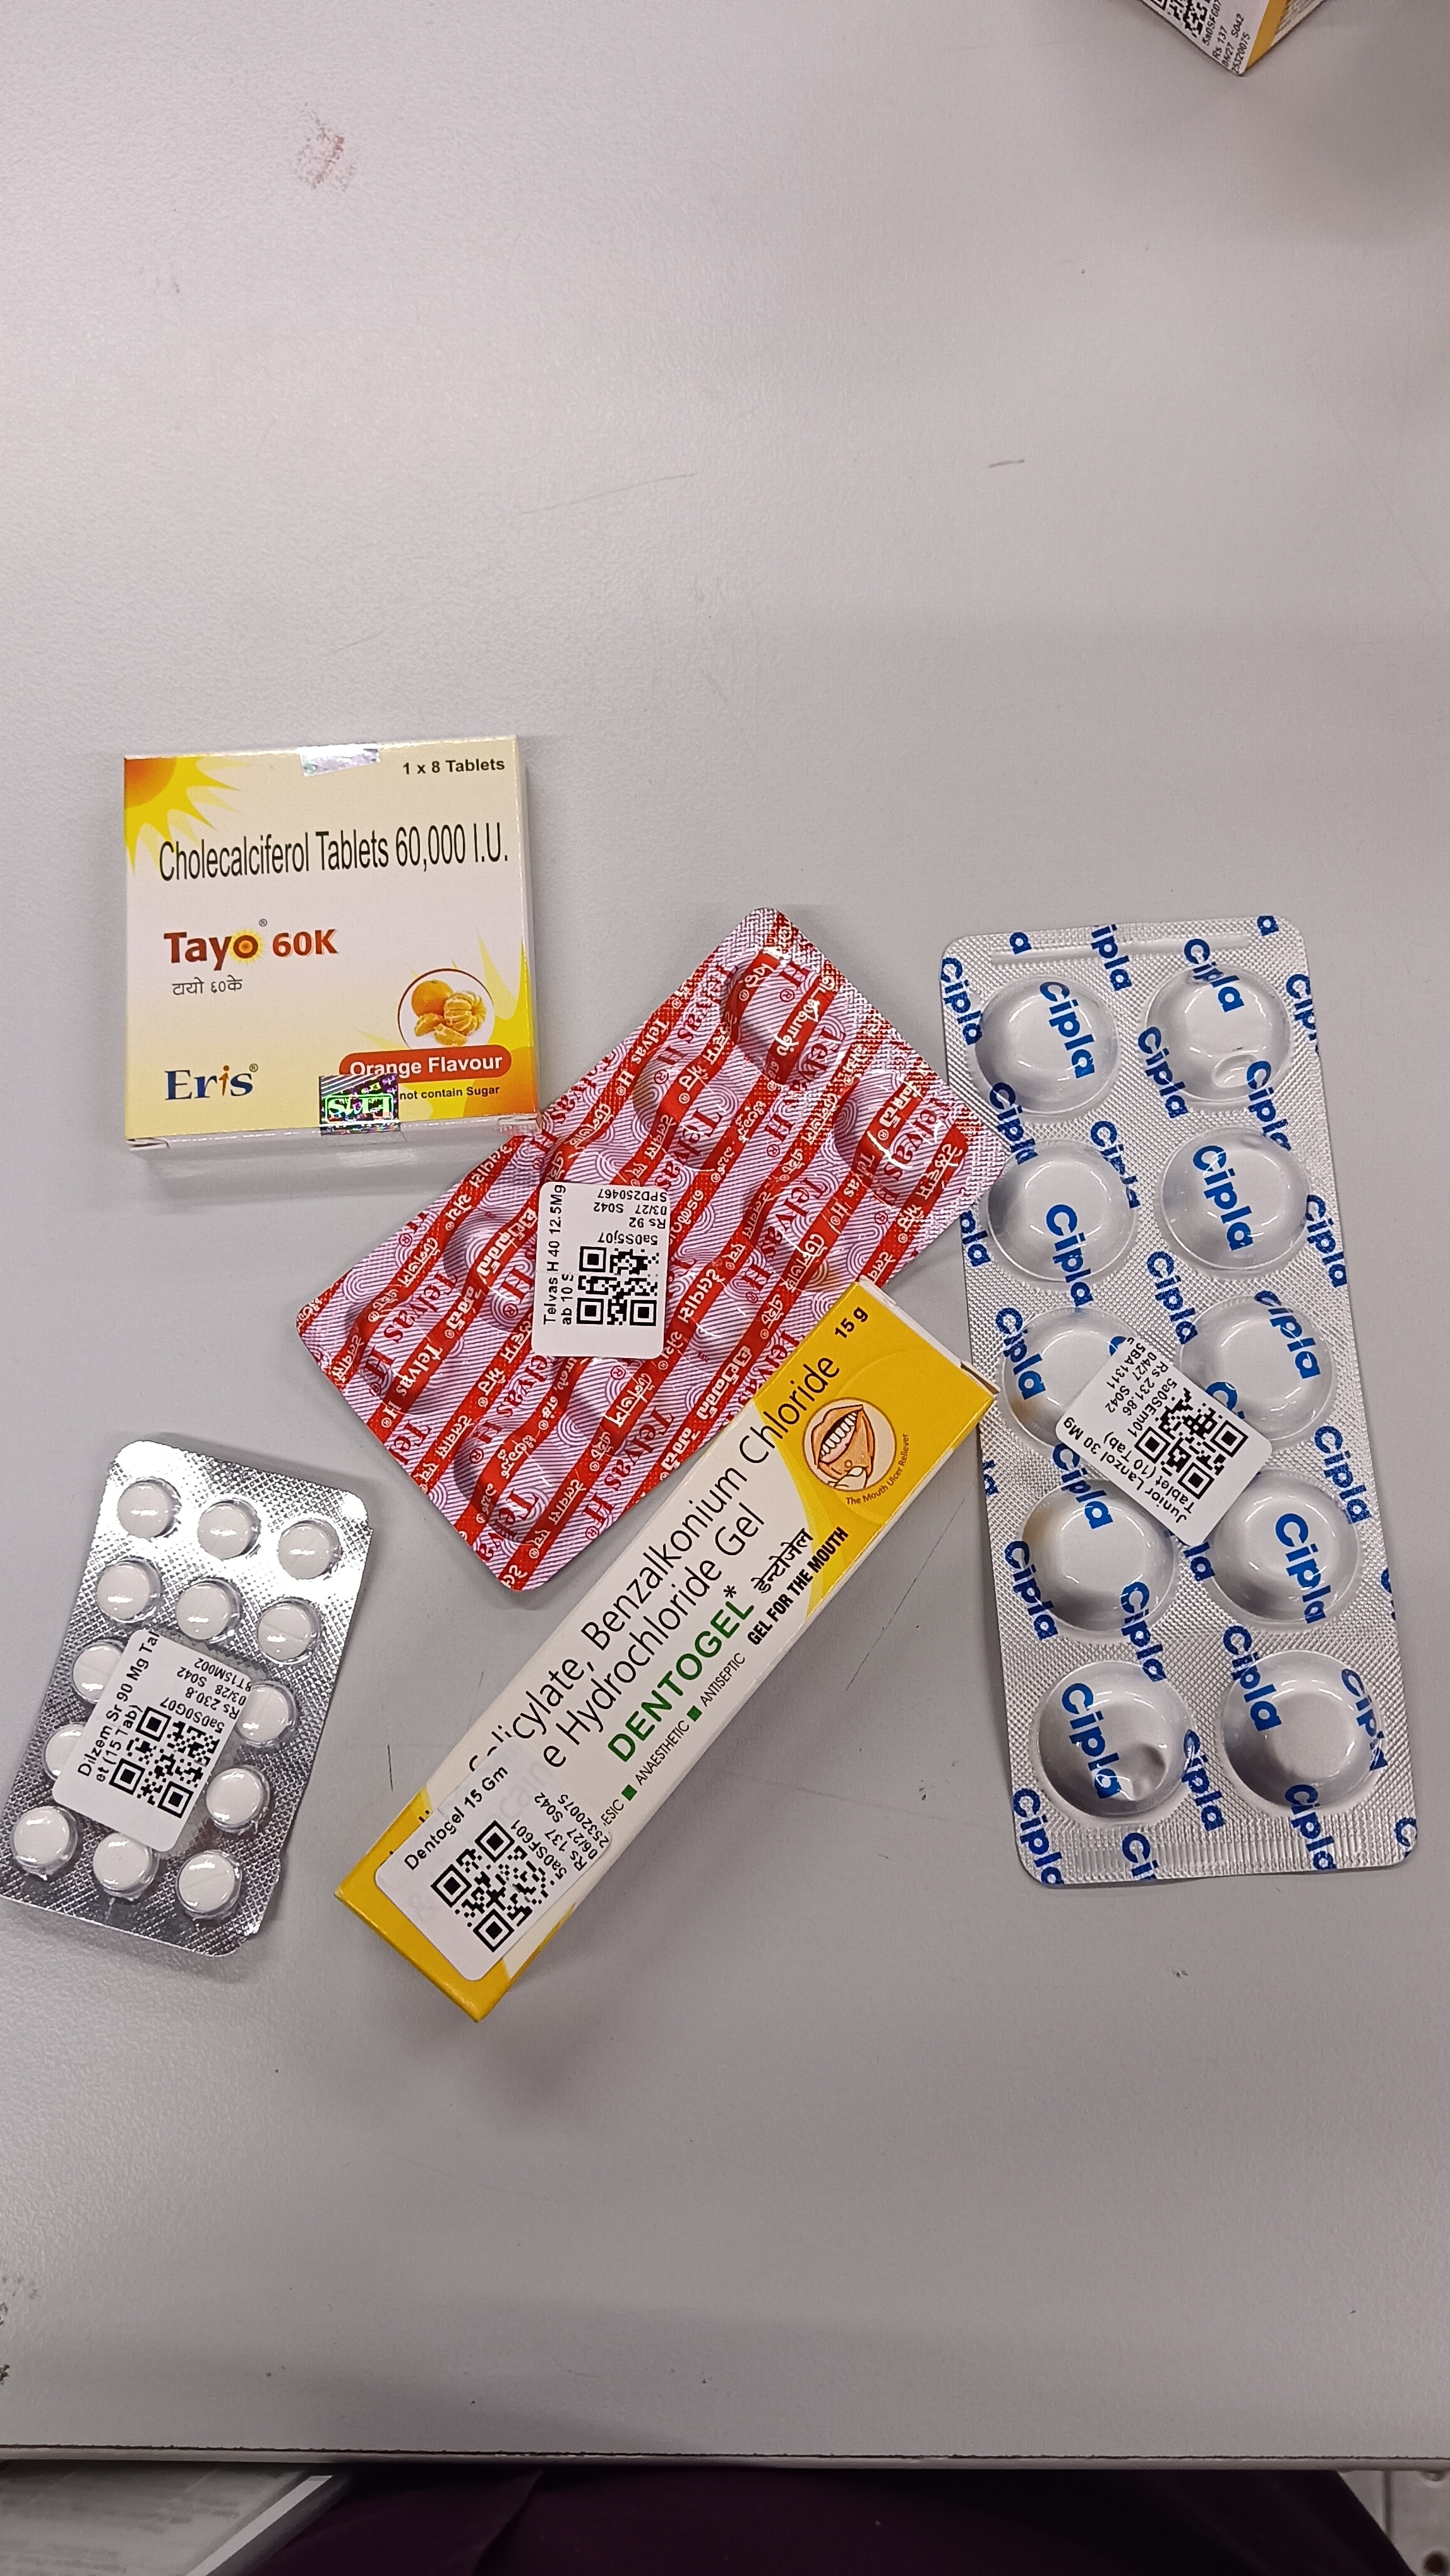QR: (428, 1752, 559, 1886), (108, 1647, 220, 1762), (575, 1205, 659, 1286)
